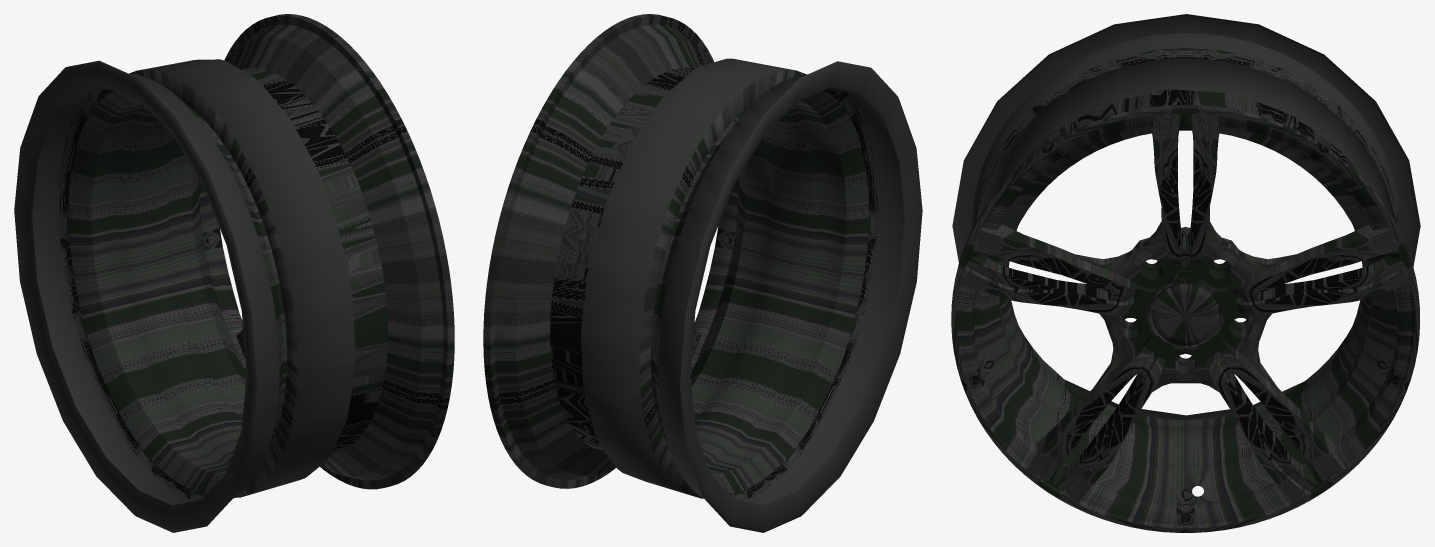
The model's file is frontright1.glb.
The picture shows the model from 3 angles, left to right: view 1: azimuth 30°, elevation 25°; view 2: azimuth 150°, elevation 25°; view 3: azimuth 270°, elevation 25°; orthographic projection. The views are drawn at different scales.
Visible parts, largest first — view 1: Front Right Wheel; view 2: Front Right Wheel; view 3: Front Right Wheel.
Boxes of the visible parts, <box> form: Front Right Wheel: <box>14,14,454,532</box>; Front Right Wheel: <box>483,14,922,532</box>; Front Right Wheel: <box>951,14,1420,532</box>.
Size of the model in its own units: 0.2765 by 0.5726 by 0.5714.
1 material, 1 textured.
